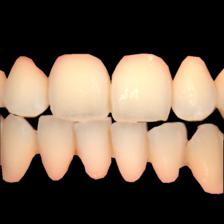cavity: (30, 132, 43, 155), (71, 133, 83, 156), (107, 130, 117, 157), (181, 147, 193, 166)
tooth: (113, 51, 175, 122), (50, 52, 112, 120), (171, 54, 217, 124), (147, 122, 195, 183), (72, 120, 119, 179), (112, 121, 155, 183), (34, 114, 74, 180), (190, 123, 224, 193), (8, 56, 48, 115), (4, 113, 33, 182)
